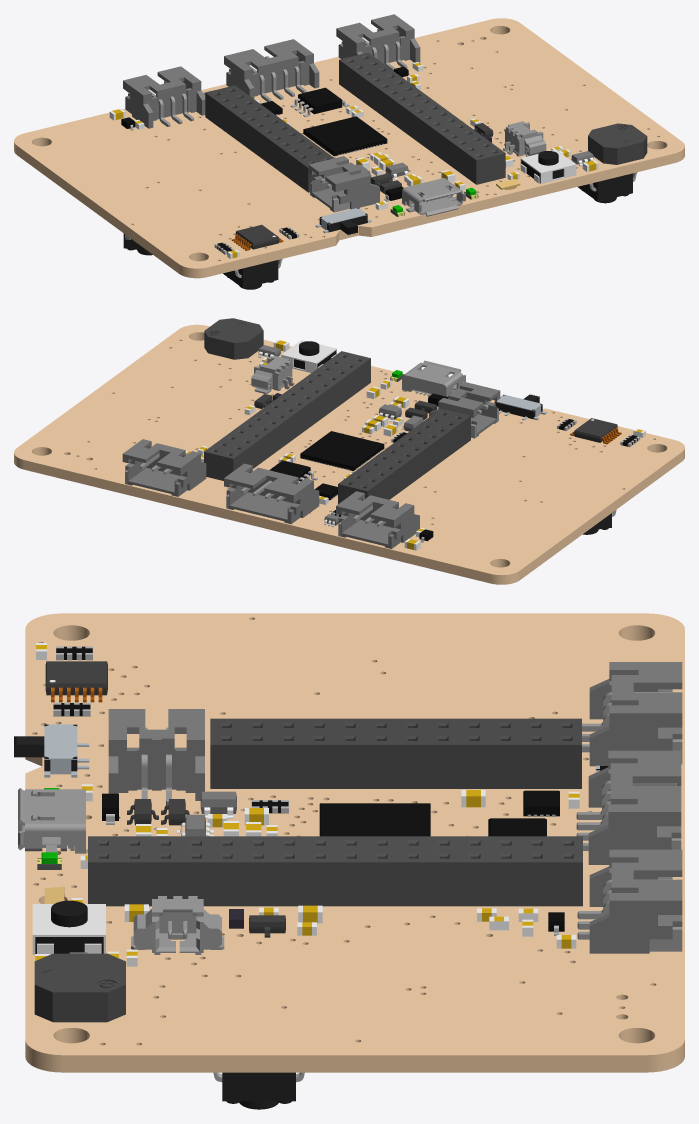
File: 4200 PyBadge.fbx
3 views of the same model, one above another, from view 1: azimuth 30°, elevation 25°; view 2: azimuth 150°, elevation 25°; view 3: azimuth 270°, elevation 25° (orthographic). The views are drawn at different scales.
Parts seen in each view (by area): view 1: Board, Body2 (×9), Body5 (×3), Body1, Body8, Body4, Body34; view 2: Board, Body5 (×3), Body2 (×7), Body1, Body8, Body34, Body4; view 3: Board, Body1, Body8 (×2), Body2 (×9), Body5 (×3), Body4, Body34, Body10, Body3.
Boxes of the visible parts, bbox=[...] form: Board: bbox=[14, 18, 684, 278]; Body2 (×9): bbox=[223, 87, 647, 289]; Body5 (×3): bbox=[123, 14, 420, 128]; Body1: bbox=[339, 52, 505, 184]; Body8: bbox=[205, 85, 334, 192]; Body4: bbox=[308, 156, 379, 210]; Body34: bbox=[303, 116, 387, 156]; Board: bbox=[14, 324, 684, 584]; Body5 (×3): bbox=[122, 439, 419, 548]; Body2 (×7): bbox=[204, 318, 621, 482]; Body1: bbox=[204, 351, 370, 480]; Body8: bbox=[338, 408, 470, 504]; Body34: bbox=[300, 431, 384, 470]; Body4: bbox=[429, 382, 500, 436]; Board: bbox=[25, 613, 684, 1072]; Body1: bbox=[88, 836, 582, 906]; Body8 (×2): bbox=[35, 718, 581, 953]; Body2 (×9): bbox=[14, 661, 546, 1109]; Body5 (×3): bbox=[588, 662, 682, 953]; Body4: bbox=[108, 709, 204, 800]; Body34: bbox=[319, 803, 430, 836]; Body10: bbox=[523, 790, 559, 816]; Body3: bbox=[51, 900, 87, 927].
Bounding box in the file's own units: 85.73 × 11.37 × 55.03.
